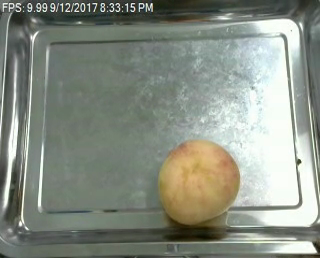Peach: (158, 138, 240, 225)
